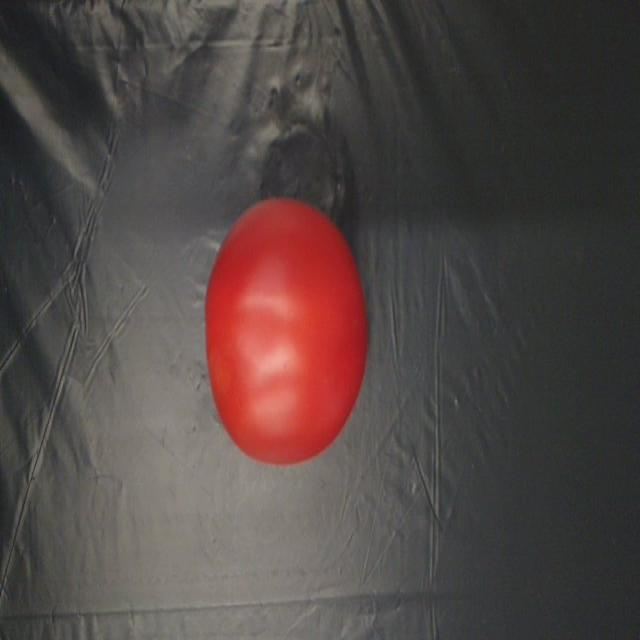kirmizi: (196, 177, 376, 465)
